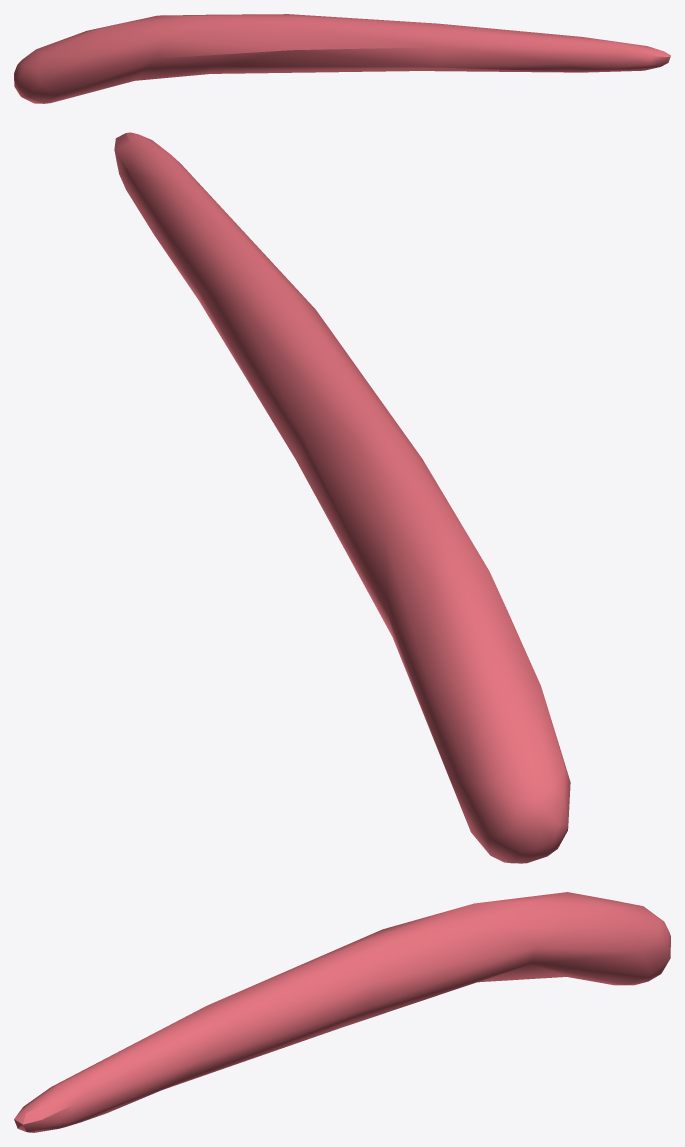
Rendered from fma9437_fj2962.glb.
The picture shows the model from 3 angles, top to bottom: view 1: azimuth 30°, elevation 25°; view 2: azimuth 150°, elevation 25°; view 3: azimuth 270°, elevation 25°; orthographic projection. The views are drawn at different scales.
Visible parts, largest first — view 1: FMA9437_FJ2962; view 2: FMA9437_FJ2962; view 3: FMA9437_FJ2962.
Part boxes in pixels (box(x1,y1,x2,y2)): FMA9437_FJ2962: box(14, 14, 670, 103); FMA9437_FJ2962: box(114, 132, 570, 863); FMA9437_FJ2962: box(14, 892, 670, 1132).
Size of the model in its own units: 0.0194 by 0.00481 by 0.0176.
